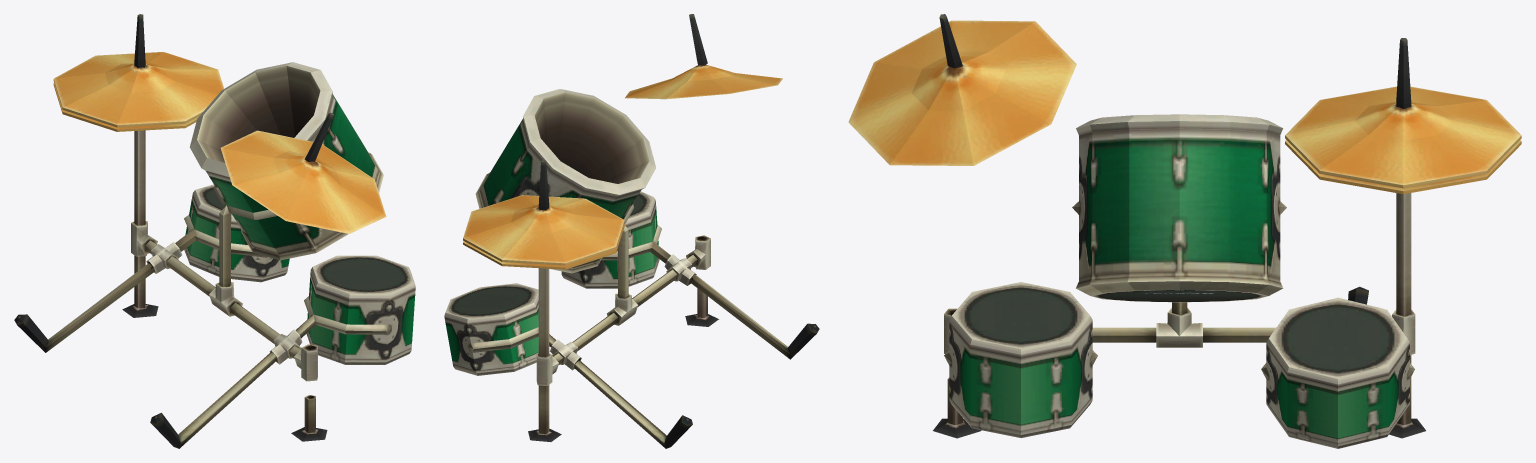
File: Mole_drumSet.obj
The picture shows the model from 3 angles, left to right: view 1: azimuth 30°, elevation 25°; view 2: azimuth 150°, elevation 25°; view 3: azimuth 270°, elevation 25°; orthographic projection. The views are drawn at different scales.
Visible parts, largest first — view 1: Mole_drumSet_tri; view 2: Mole_drumSet_tri; view 3: Mole_drumSet_tri.
Part boxes in pixels (x1=…): Mole_drumSet_tri: x1=14, y1=14, x2=415, y2=448; Mole_drumSet_tri: x1=444, y1=14, x2=819, y2=448; Mole_drumSet_tri: x1=848, y1=14, x2=1521, y2=448.
Size of the model in its own units: 0.7149 by 0.7603 by 1.1.
Materials: 1 (1 with a texture image).
